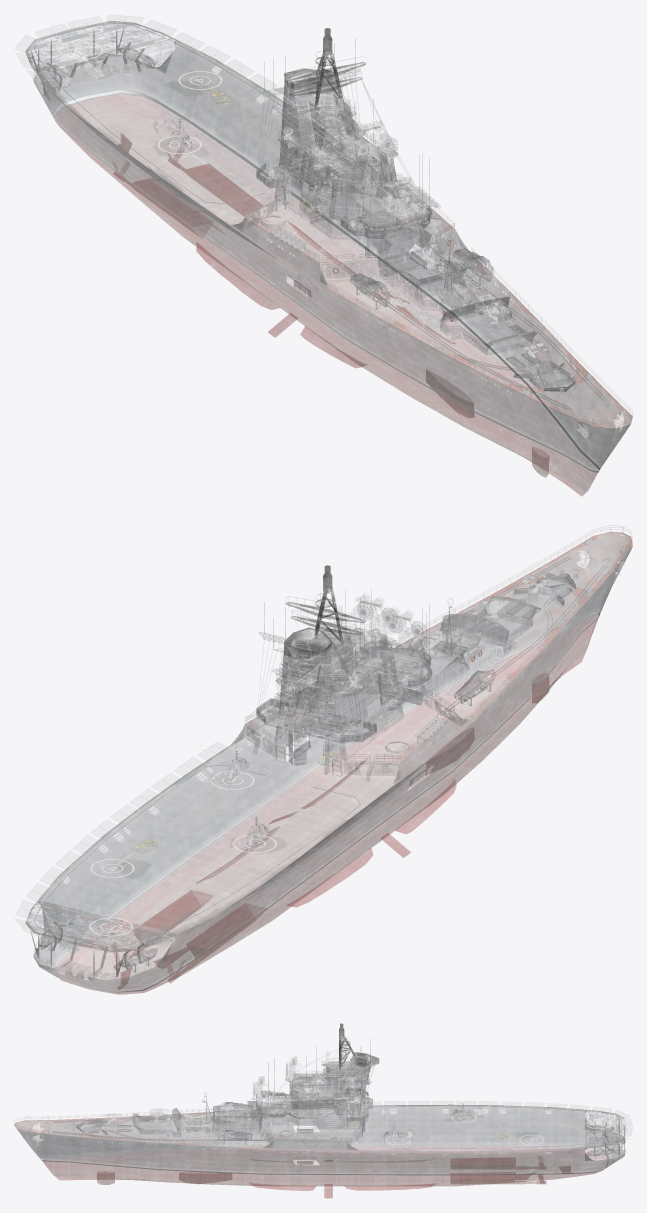
Rendered from moskvaclass.glb.
The picture shows the model from 3 angles, top to bottom: view 1: azimuth 30°, elevation 25°; view 2: azimuth 150°, elevation 25°; view 3: azimuth 270°, elevation 25°; orthographic projection. The views are drawn at different scales.
Parts seen in each view (by area): view 1: moskva; view 2: moskva; view 3: moskva.
Part boxes in pixels (left/top/right/bottom): moskva: left=16, top=15, right=632, bottom=496; moskva: left=16, top=526, right=632, bottom=994; moskva: left=14, top=1023, right=626, bottom=1198.
Size of the model in its own units: 5.64 by 8.01 by 27.96.
6 materials, 6 textured.
